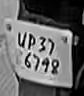3: (38, 35, 47, 52)
6: (23, 50, 32, 70)
7: (31, 53, 41, 74), (47, 39, 56, 55)
8: (50, 58, 60, 78)
9: (41, 56, 52, 76)
P: (27, 31, 36, 50)
U: (14, 28, 26, 51)
